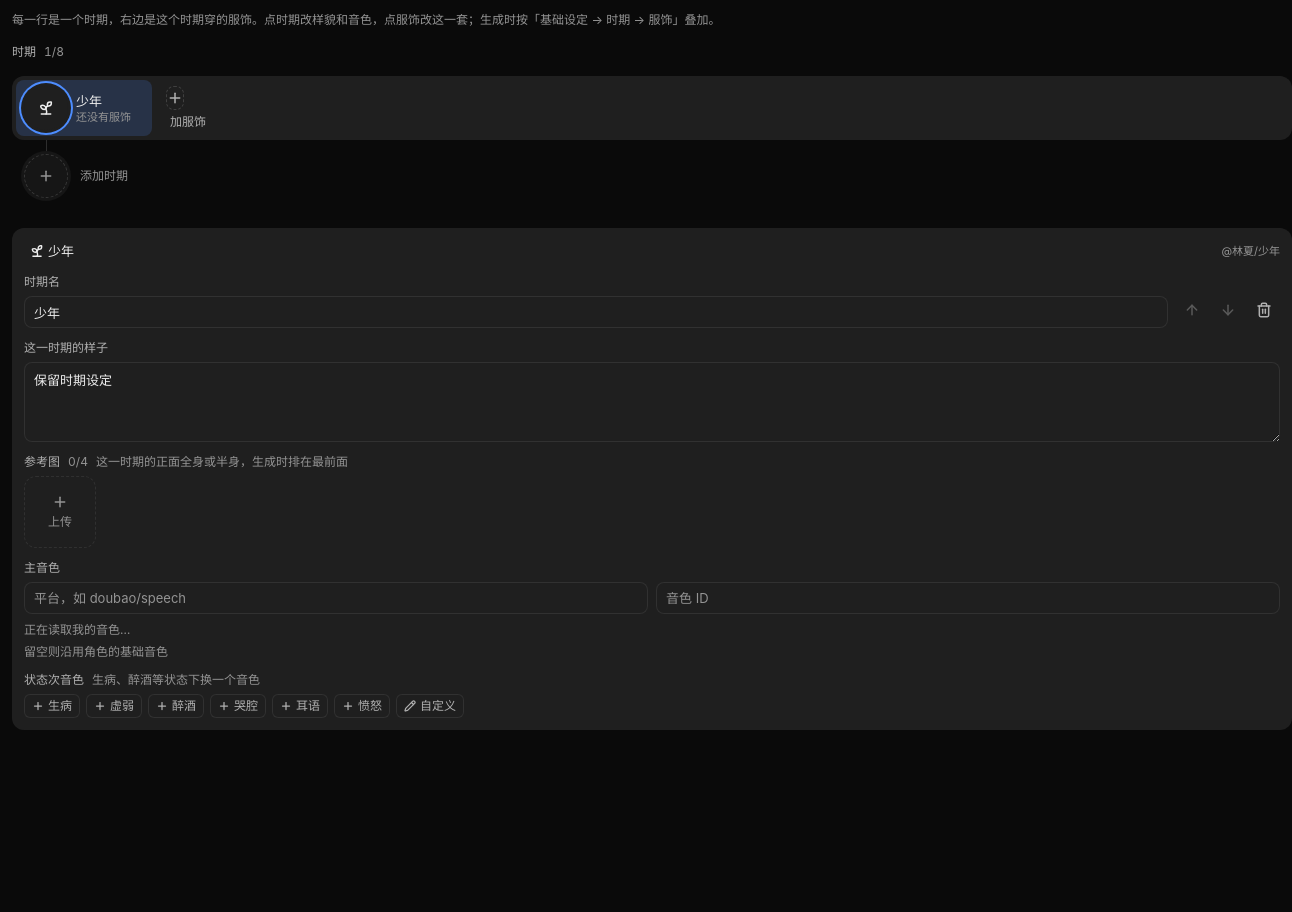
Test case: 角色档案面板 › 服饰的自定义名字在组字时不提前添加，正常回车只添加一套
Click the button "加服饰" at (196, 108), box [162, 82, 230, 134]
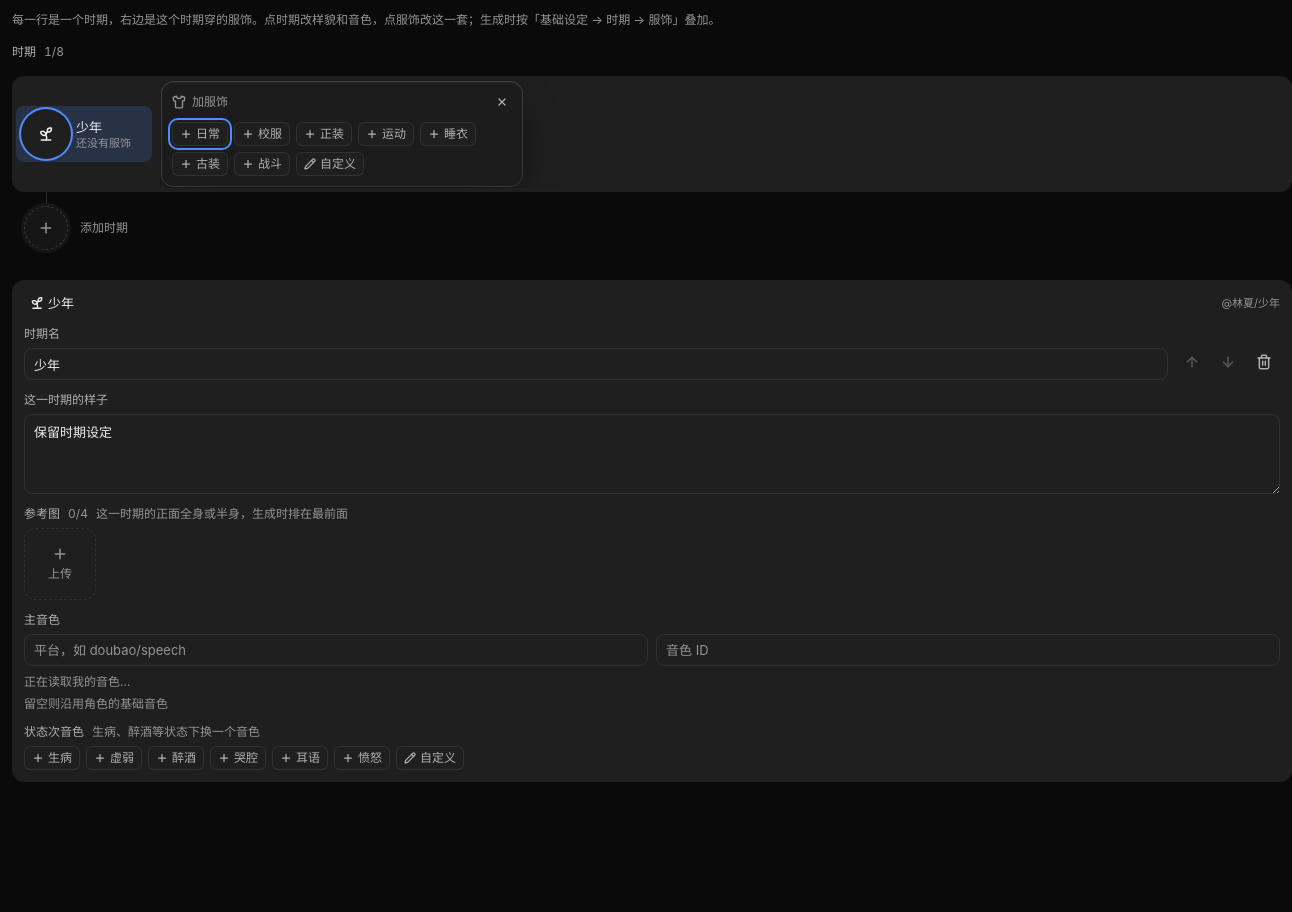
Click the button "自定义" below "加服饰" at (330, 164), box [296, 152, 364, 176]
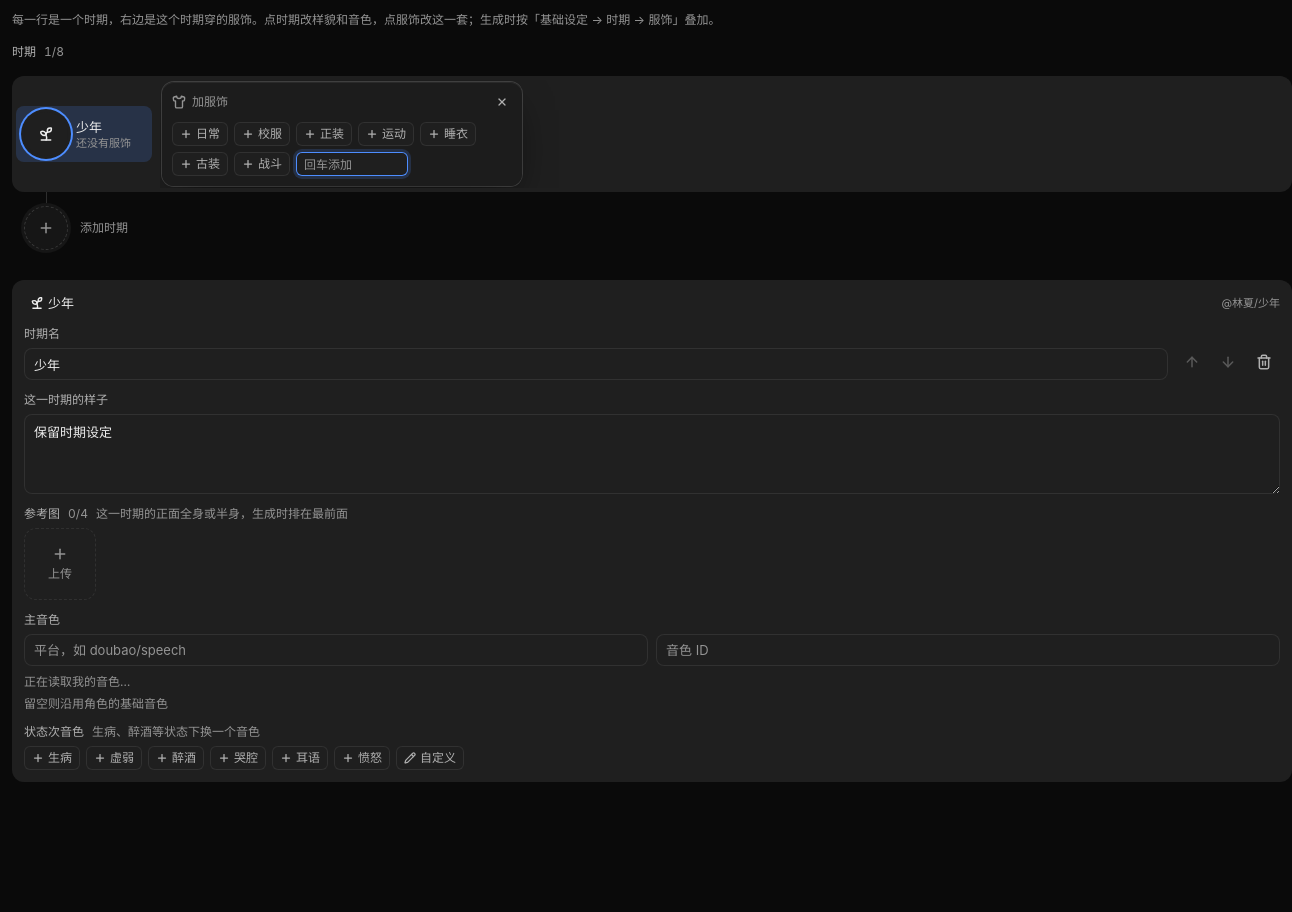
Type "运动服" into the field named "自定义名字" at (352, 164), box [296, 152, 408, 176]
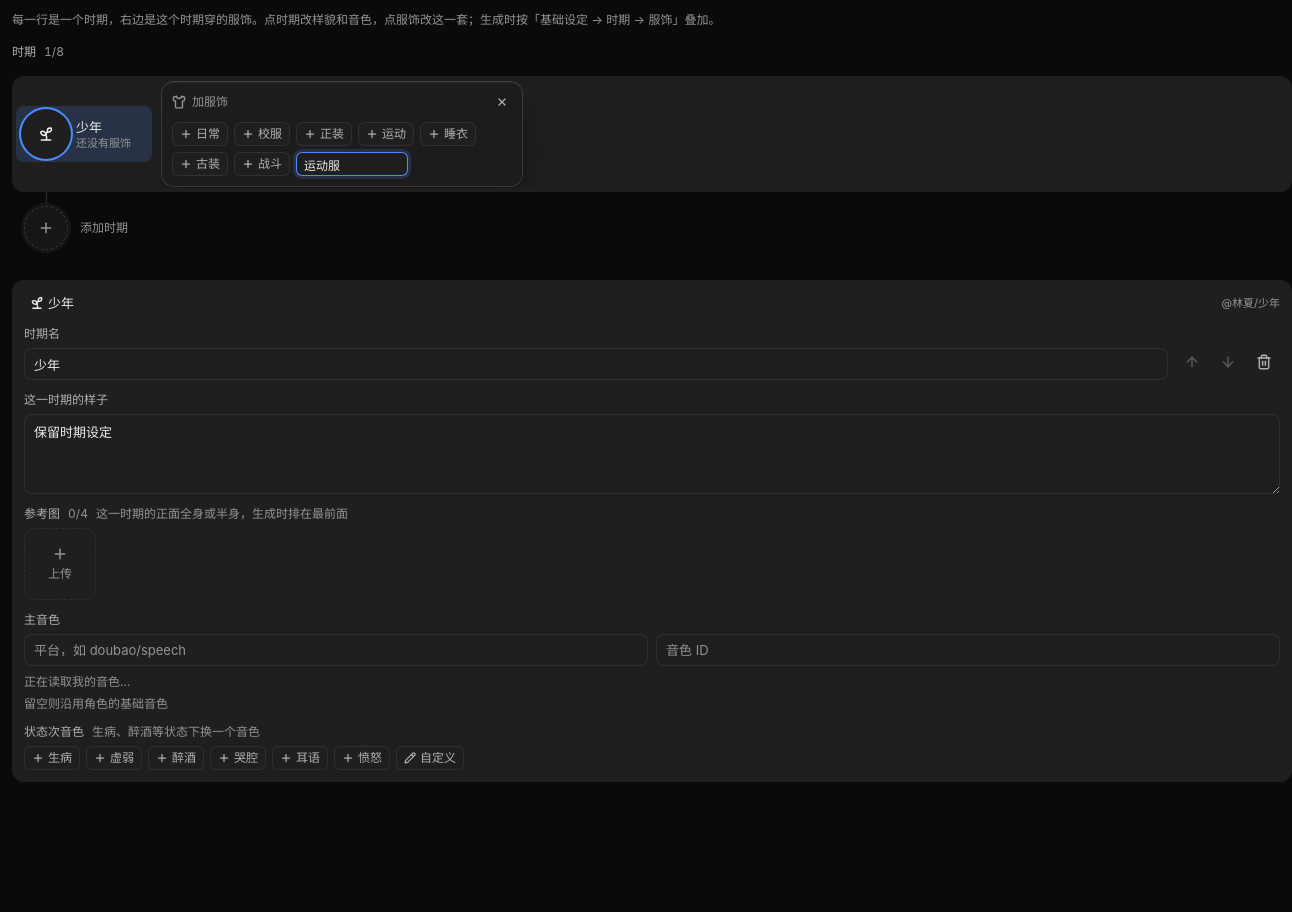
Press Enter in the field named "自定义名字", box [296, 152, 408, 176]
Press Enter in the field named "自定义名字", box [296, 152, 408, 176]
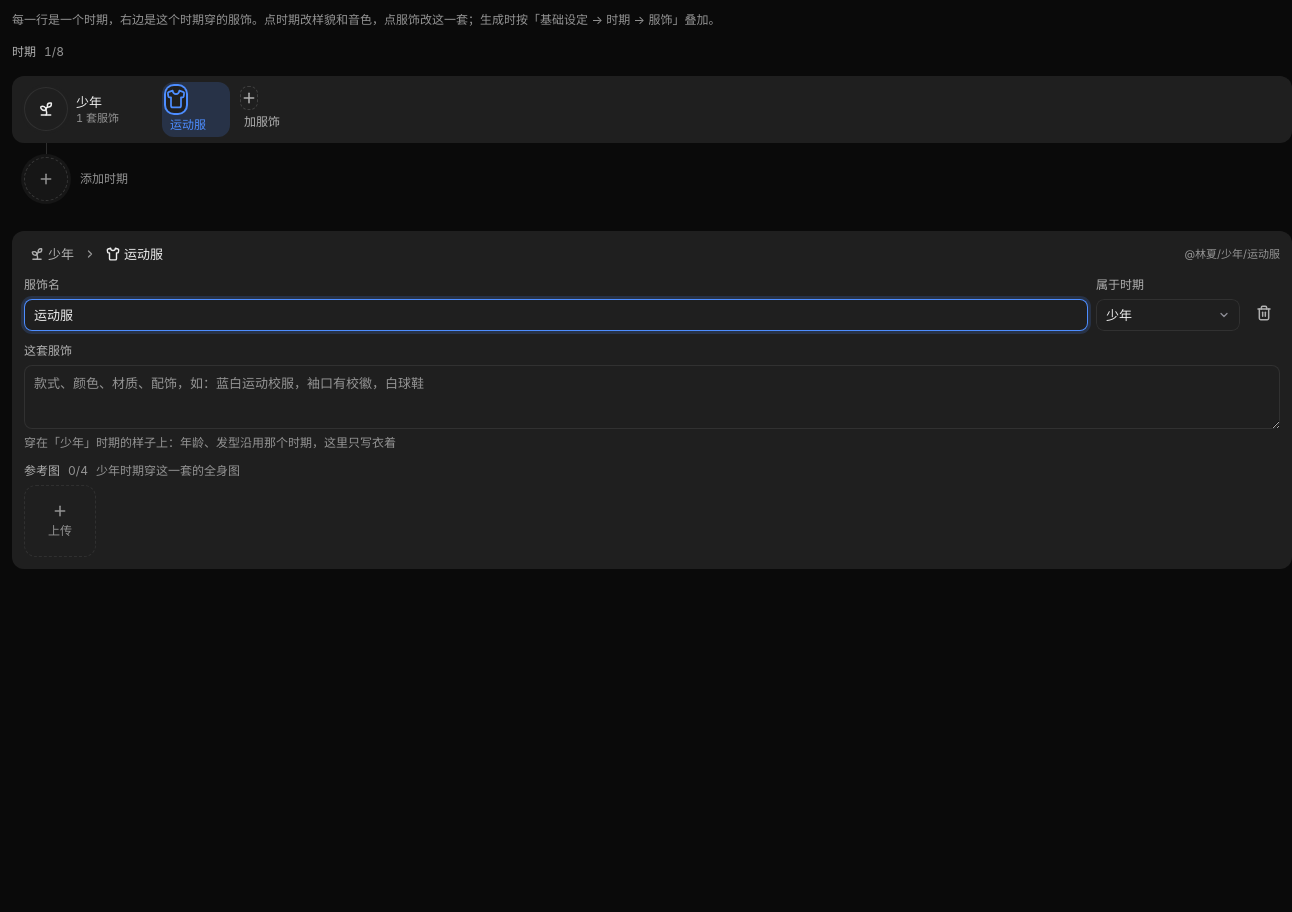
Now the field labelled "服饰名" holds "运动服", box [24, 299, 1088, 331]
Now the field labelled "自定义名字" is gone
